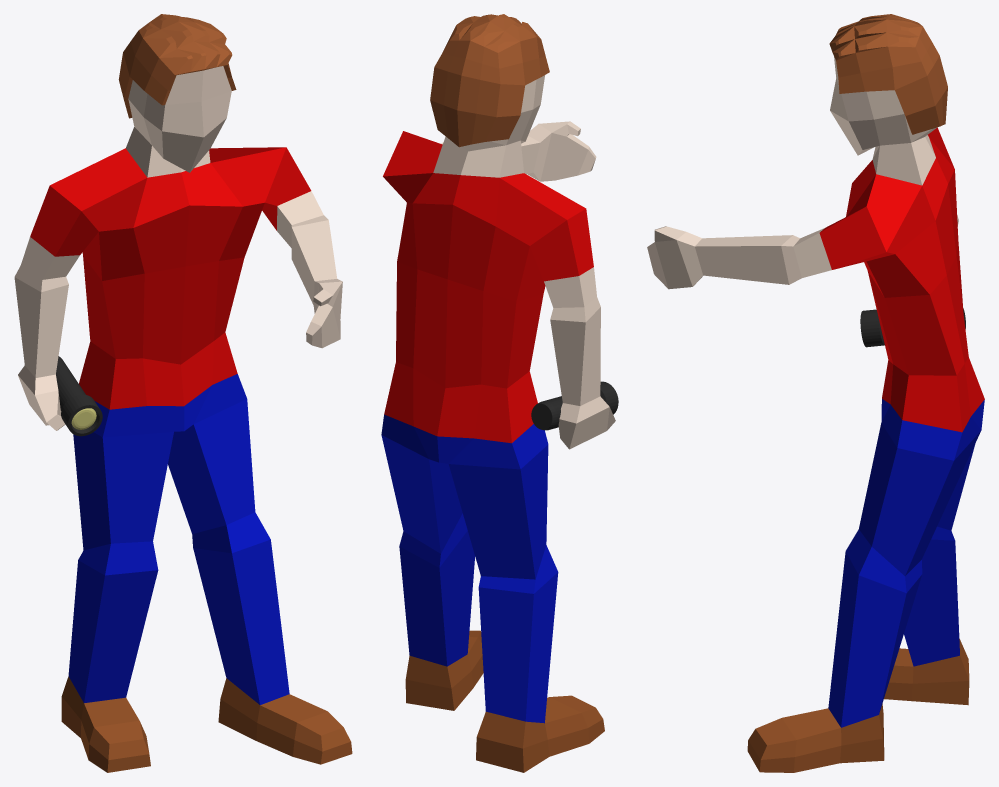
Rendered from Human_grabbing_37.fbx.
3 renders of one model, left to right at view 1: azimuth 30°, elevation 25°; view 2: azimuth 150°, elevation 25°; view 3: azimuth 270°, elevation 25°, orthographic.
Visible parts, largest first — view 1: Person.003, Cylinder.002; view 2: Person.003, Cylinder.002; view 3: Person.003, Cylinder.002.
Boxes of the visible parts, x1,y1,x2,y2 form: Person.003: (14,14,352,772); Cylinder.002: (56,356,102,436); Person.003: (381,14,615,772); Cylinder.002: (531,381,618,430); Person.003: (647,14,984,772); Cylinder.002: (860,308,965,347).
Size of the model in its own units: 0.5557 by 1.56 by 0.6832.
